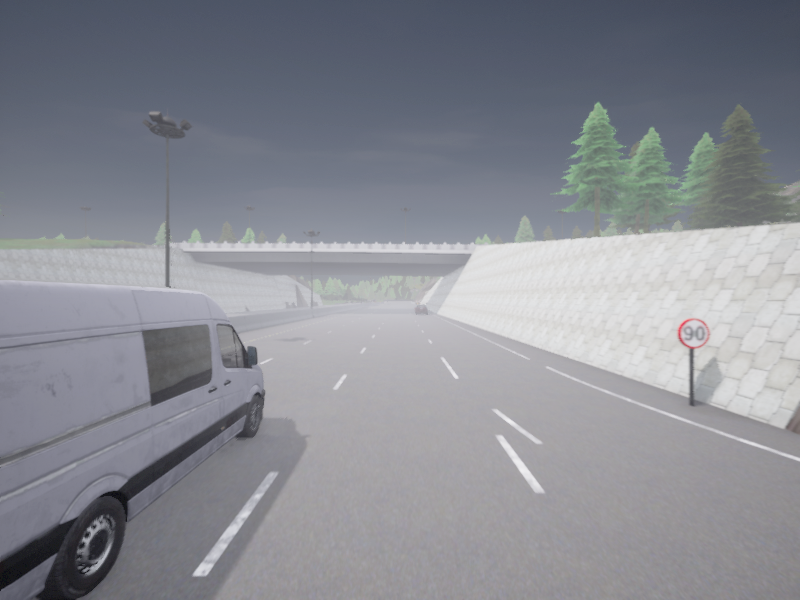vehicle: (0, 280, 265, 599), (414, 304, 427, 314)
